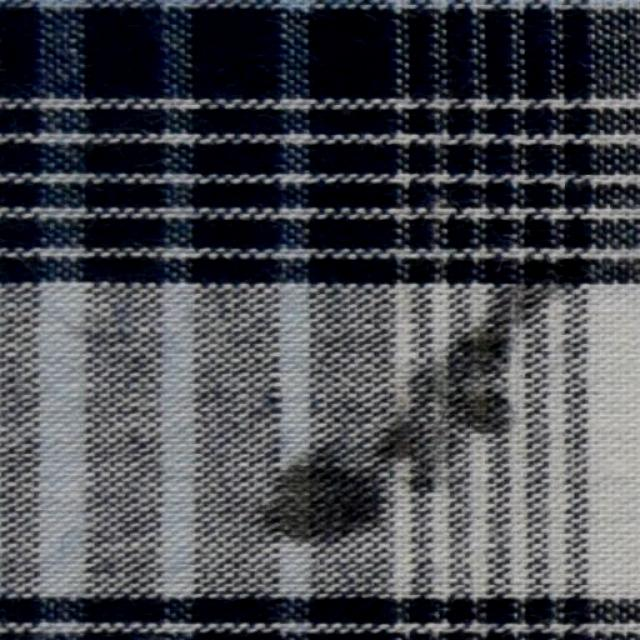Stain: (370, 251, 565, 497), (269, 449, 384, 542)
